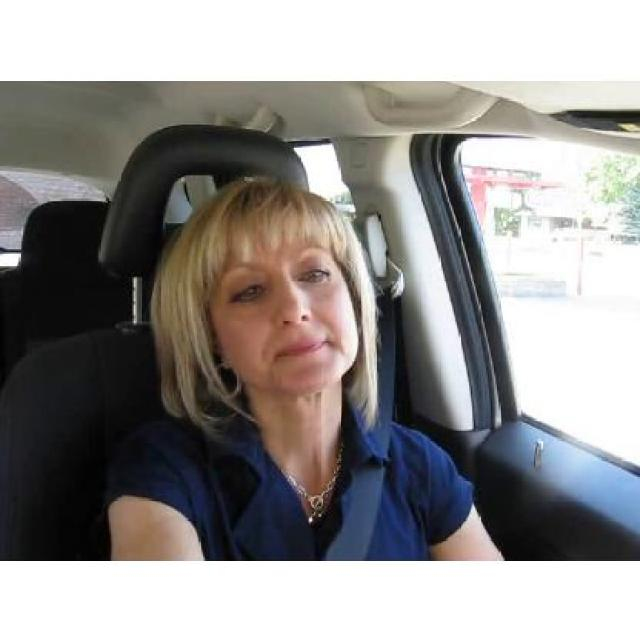attentif: (205, 187, 362, 396)
